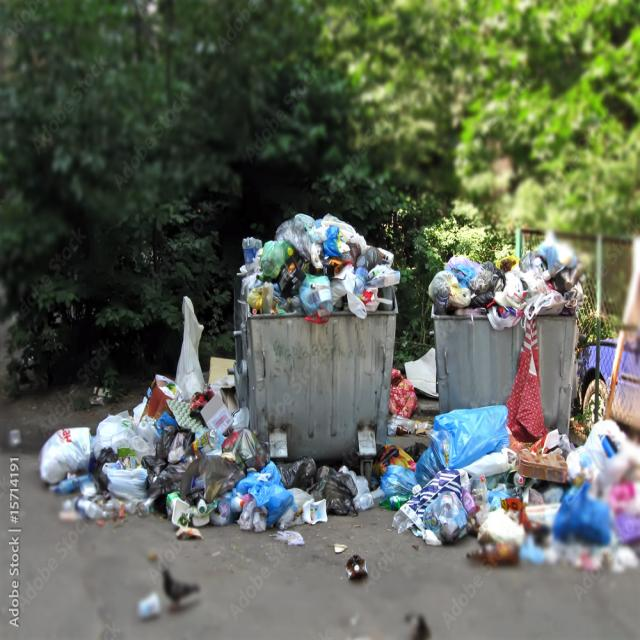metal: (236, 328, 402, 428), (427, 317, 584, 419)
trash: (54, 420, 292, 534), (232, 220, 394, 323), (432, 438, 612, 530), (434, 254, 563, 314), (150, 305, 195, 414)
